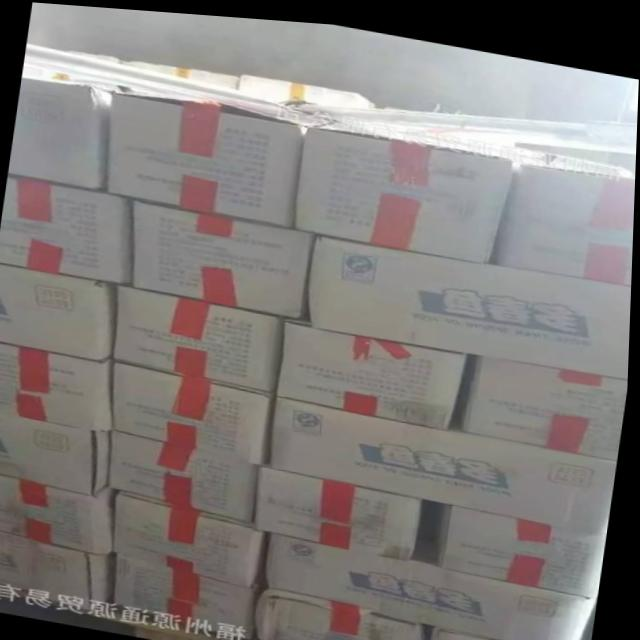box: (271, 392, 620, 526), (309, 226, 633, 369), (266, 528, 601, 640), (295, 119, 519, 256), (107, 89, 306, 223), (132, 198, 314, 317), (278, 316, 473, 422), (118, 281, 282, 389), (494, 154, 636, 275), (115, 357, 274, 463), (465, 347, 630, 448), (441, 496, 610, 588), (261, 461, 428, 551), (0, 175, 135, 283), (119, 491, 275, 583), (113, 428, 262, 517), (120, 554, 262, 638), (10, 79, 119, 188), (0, 263, 113, 359), (0, 530, 124, 616), (0, 341, 116, 430), (253, 585, 433, 640), (0, 475, 120, 552), (0, 413, 115, 492)
